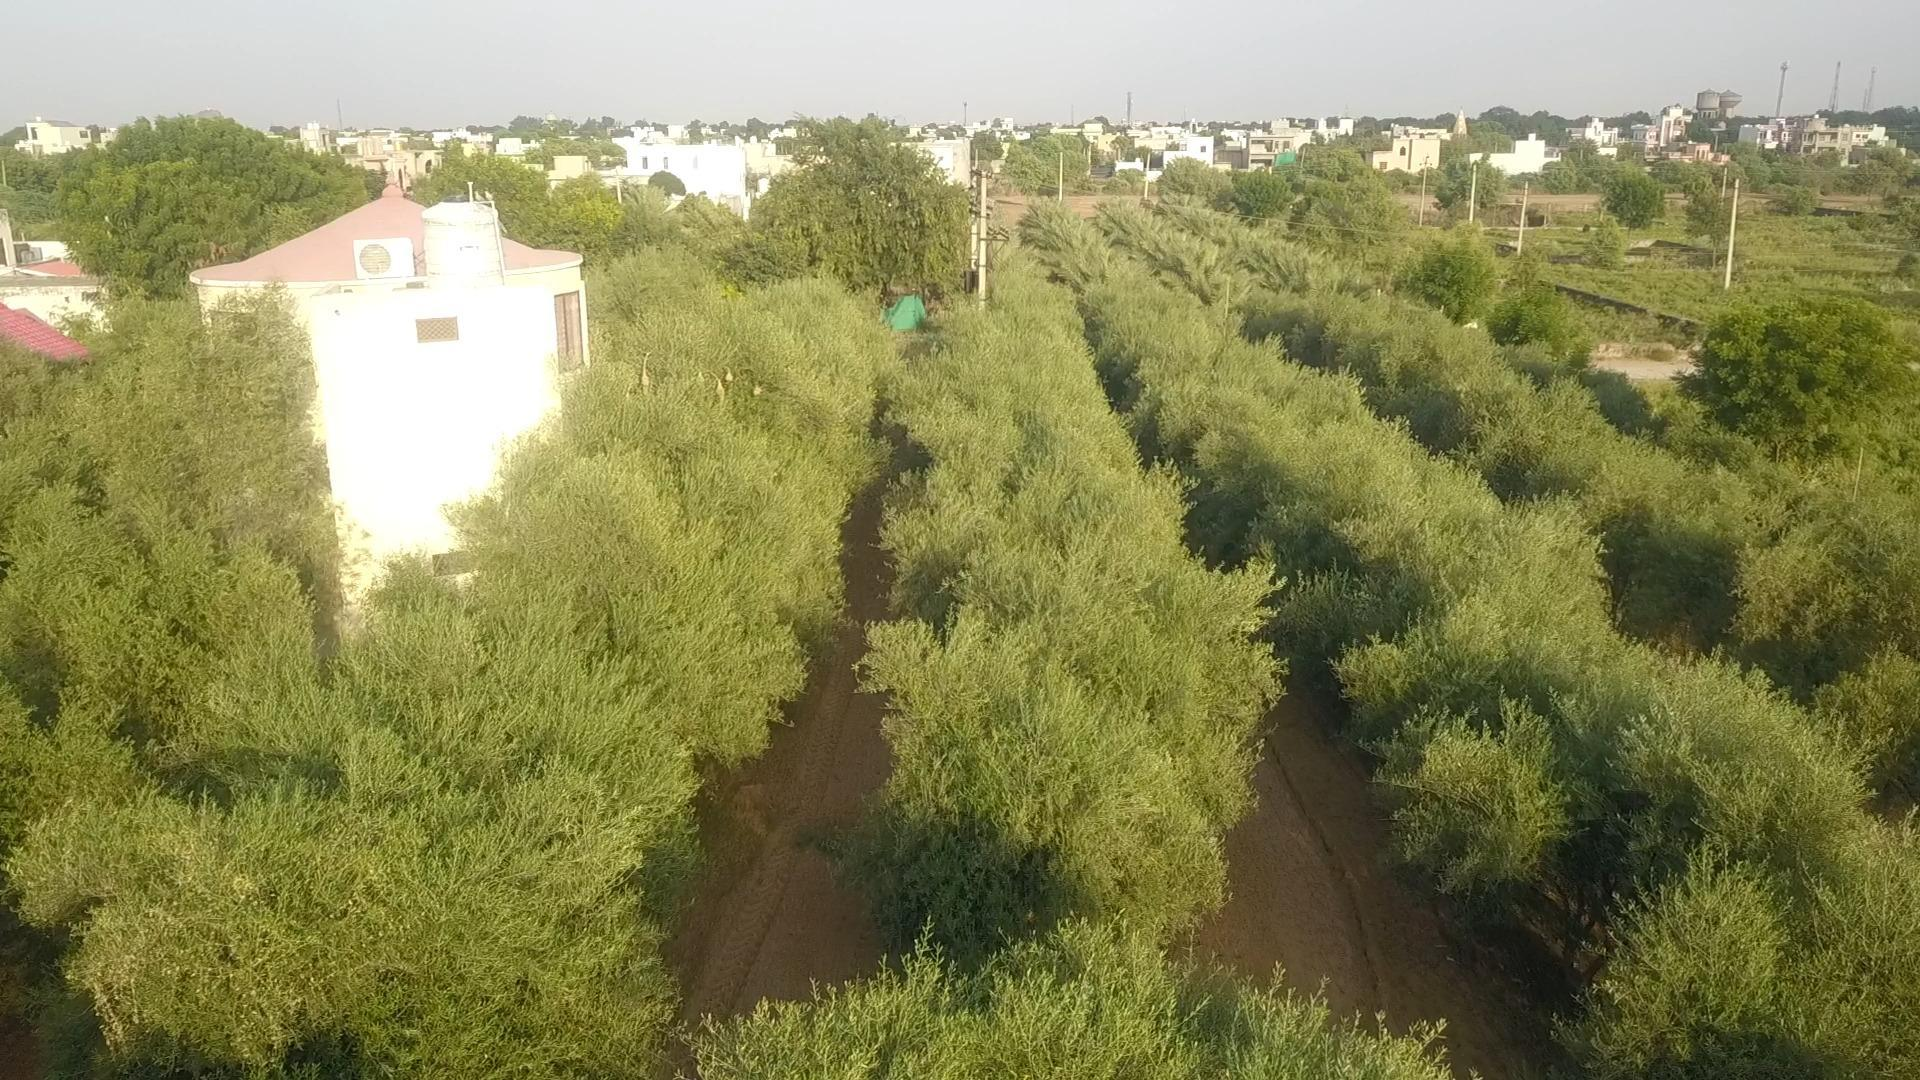canopy: (1036, 220, 1919, 1077), (32, 277, 893, 1079), (694, 272, 1445, 1079), (1240, 289, 1919, 694)
road: (1193, 684, 1516, 1076), (675, 496, 891, 1027)
